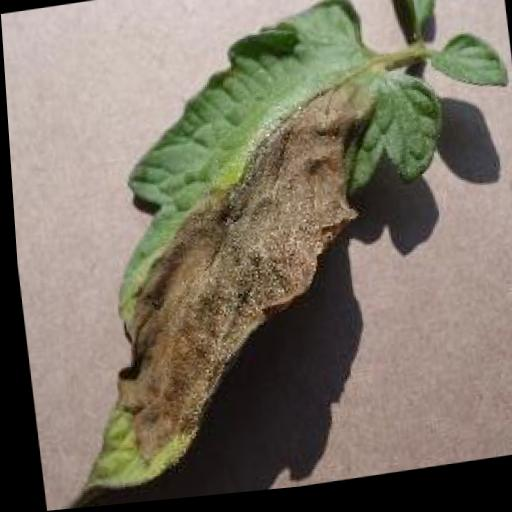Healthy: (422, 33, 506, 105)
Late Blight: (25, 0, 479, 497)
